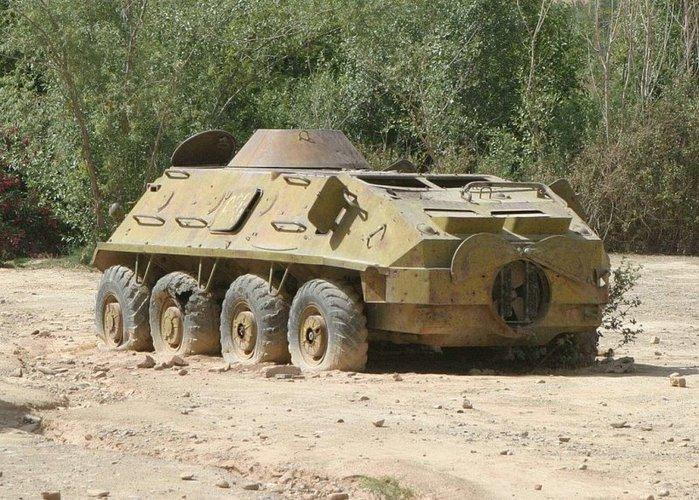MIL_IFV: (88, 127, 615, 377)
